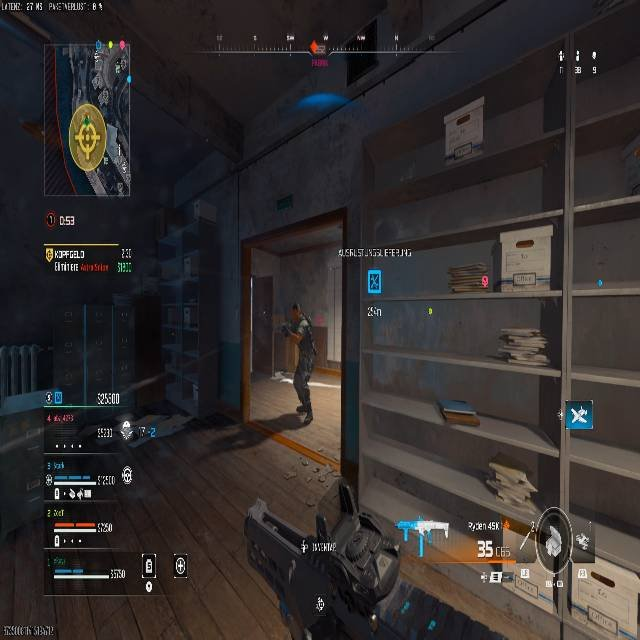head: (290, 303, 303, 322)
player: (277, 303, 315, 422)
